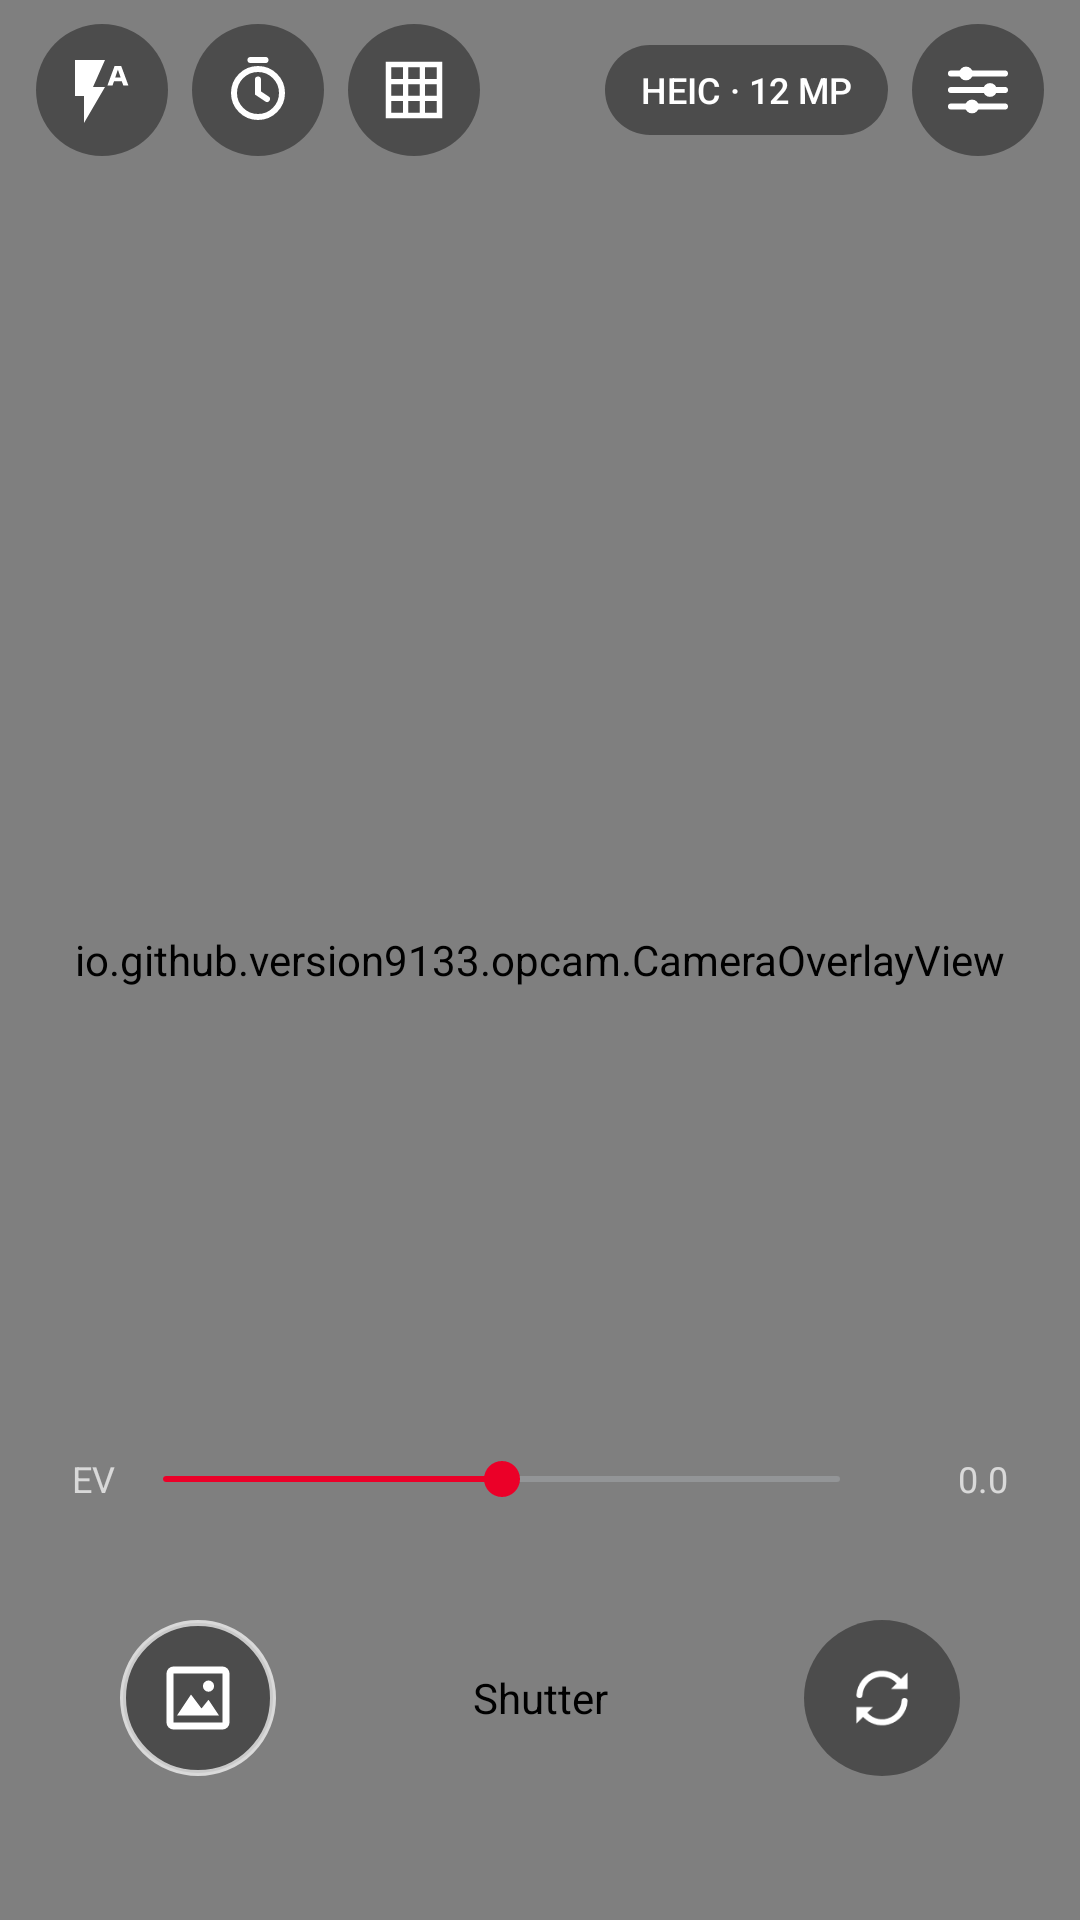

Point at icon controls on the screen. Image size 1080×1920, points as [x,y].
Flash: [102,90]
Gallery: [198,1698]
Grid: [414,90]
Settings: [978,90]
Switch camera: [882,1698]
Timer: [258,90]
